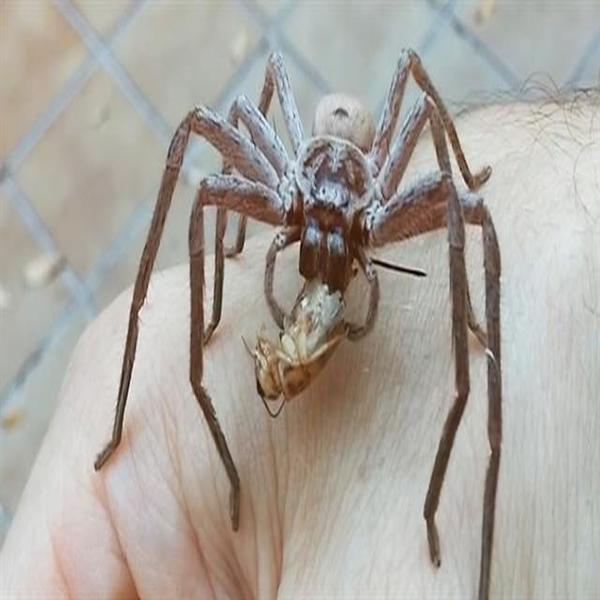Huntsman Spider: (96, 53, 503, 584)
